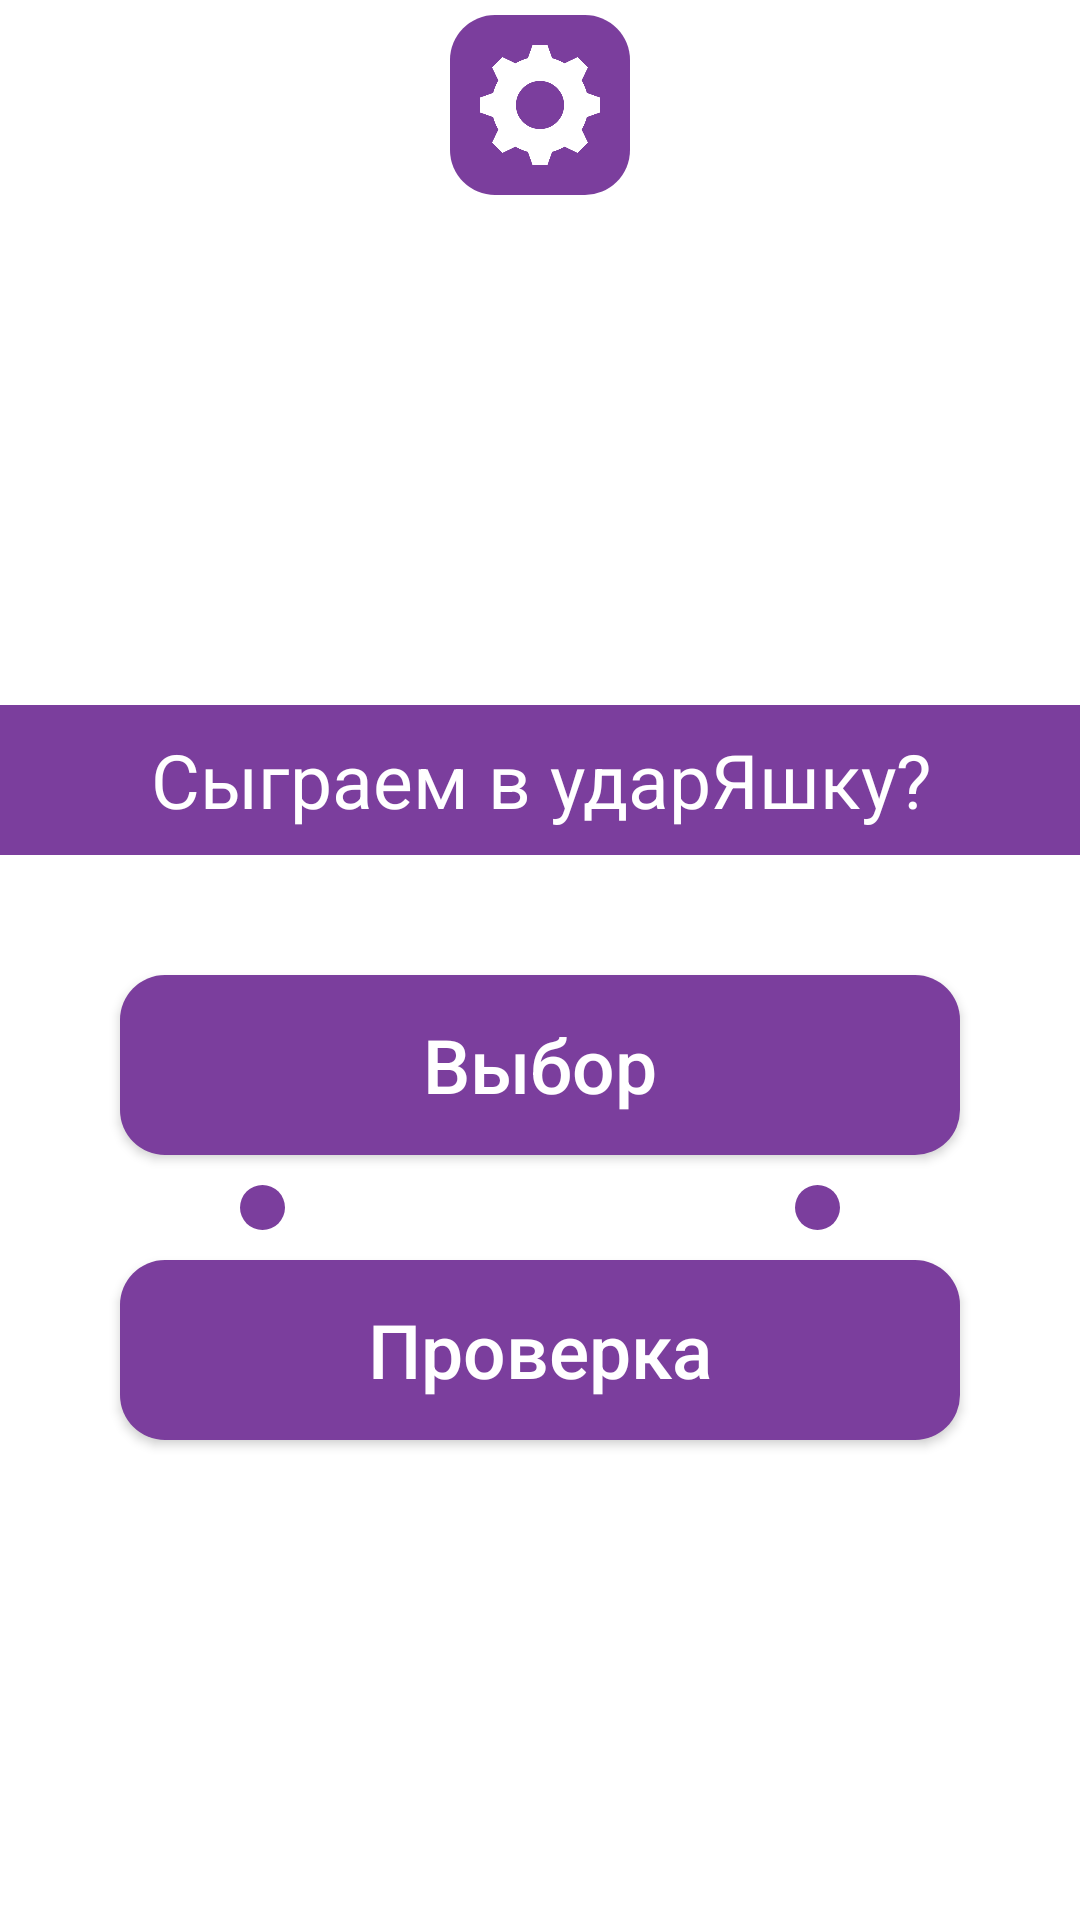

Icons on this 1080 x 1920 Android screen, each with its box as bbox=[x1, y1, x2, y2]:
dot: bbox=[240, 1185, 285, 1230], bbox=[795, 1185, 840, 1230]
gear: bbox=[450, 15, 630, 195]
